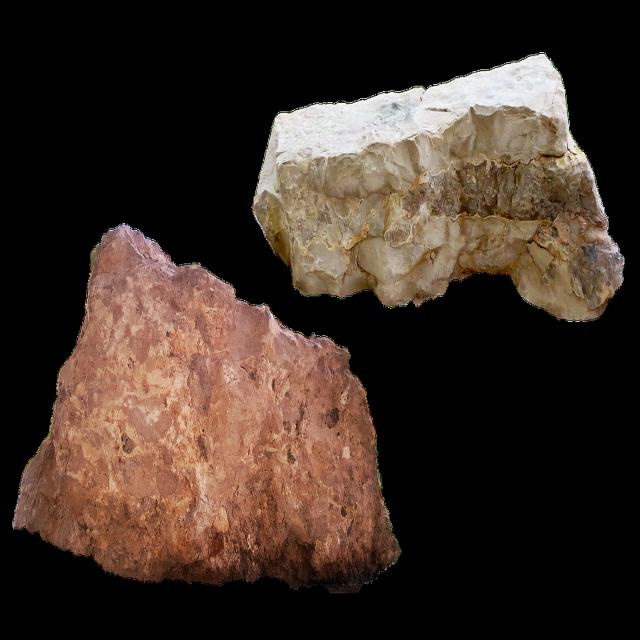Igneous: (13, 227, 407, 630), (250, 54, 632, 318)
